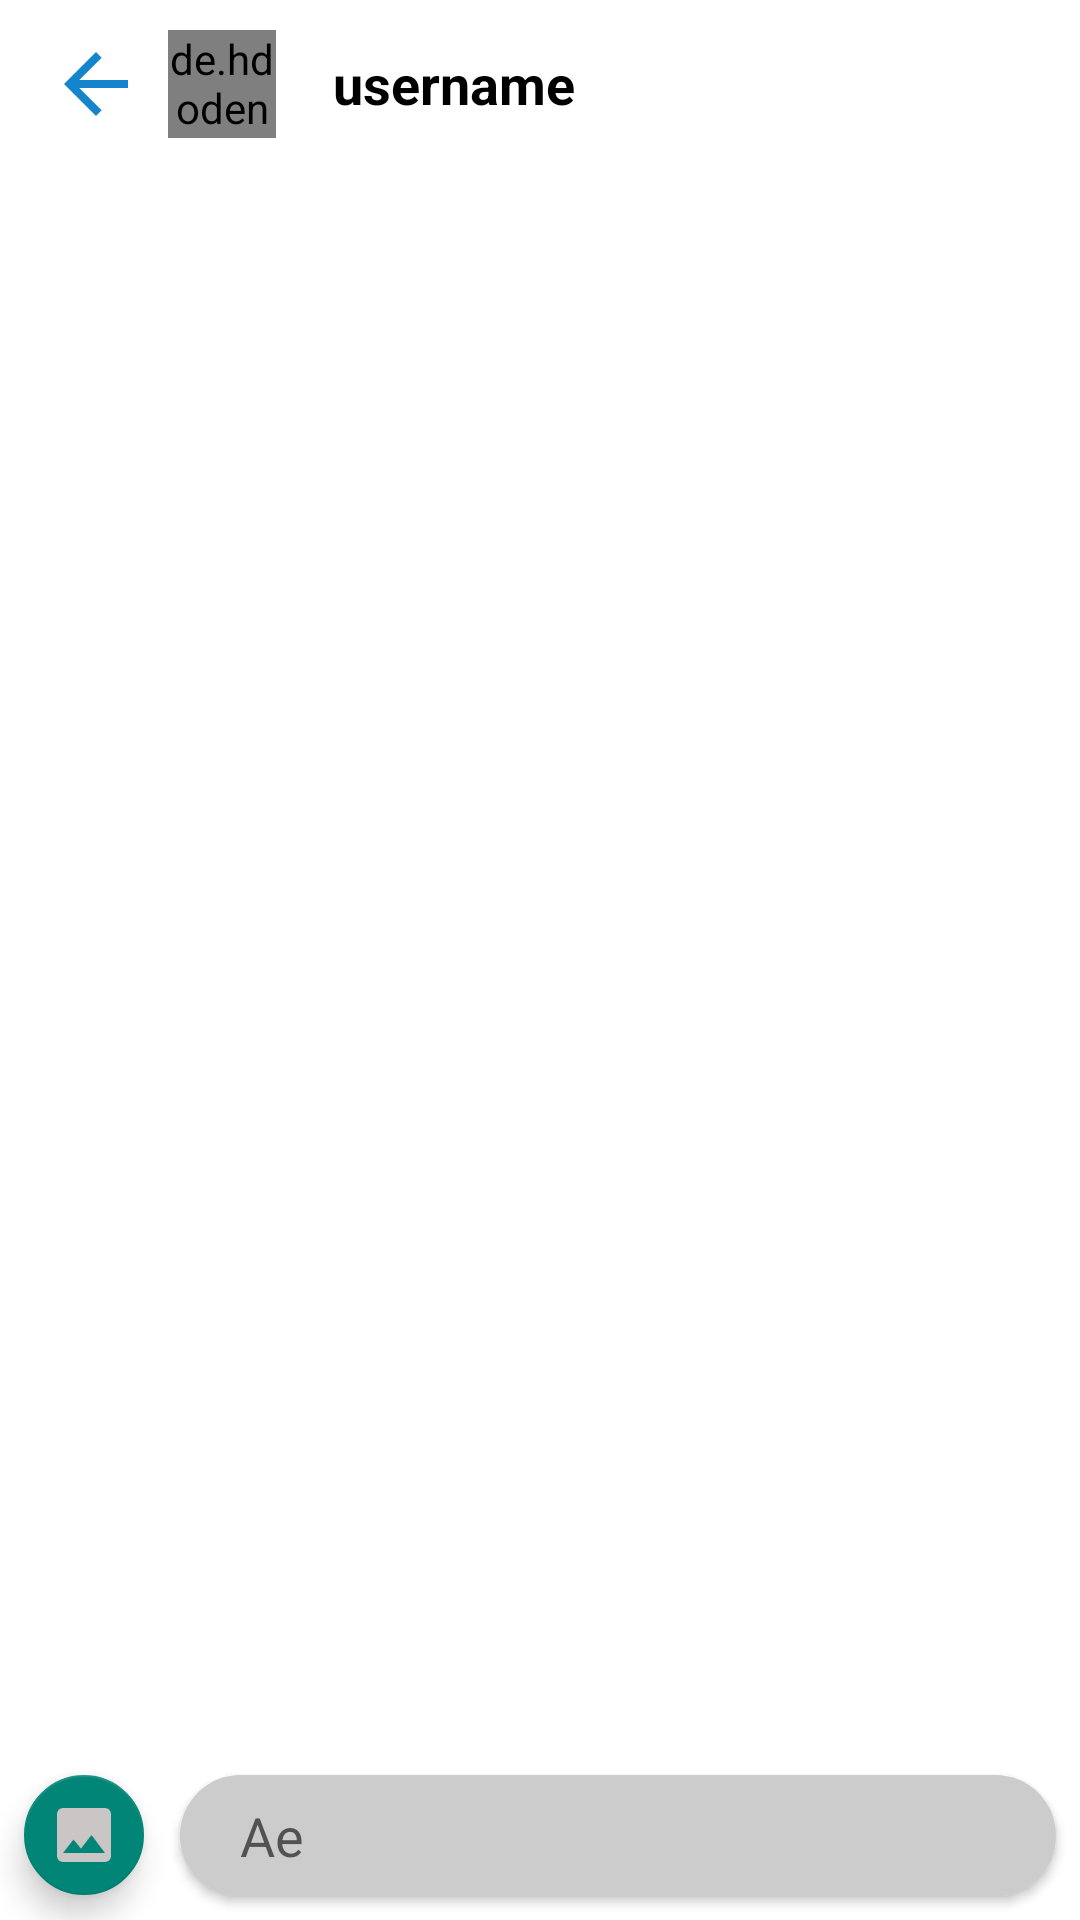

Screen size 1080 × 1920. Icon name, then its box in pixels as {"left": x1, "top": y1, "right": x2, "bottom": y2}:
back: {"left": 64, "top": 52, "right": 128, "bottom": 116}
